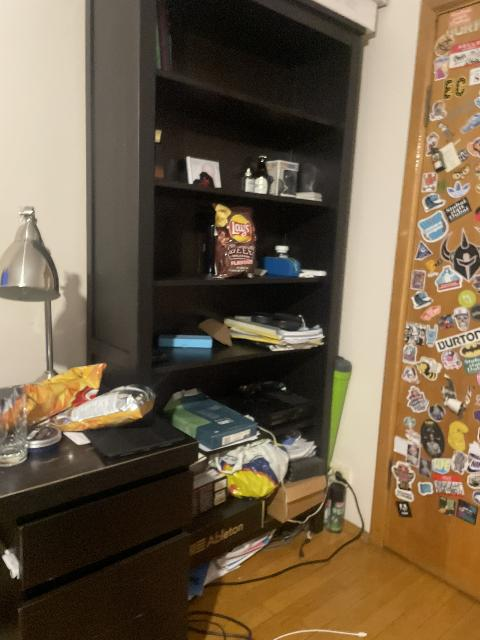Chio Cascaval 125g: (0, 361, 107, 433)
Chio Hula Hoops Cheese 70g: (56, 385, 154, 432)
Lays Beef Grilled Ribs 125g: (211, 205, 258, 279)
